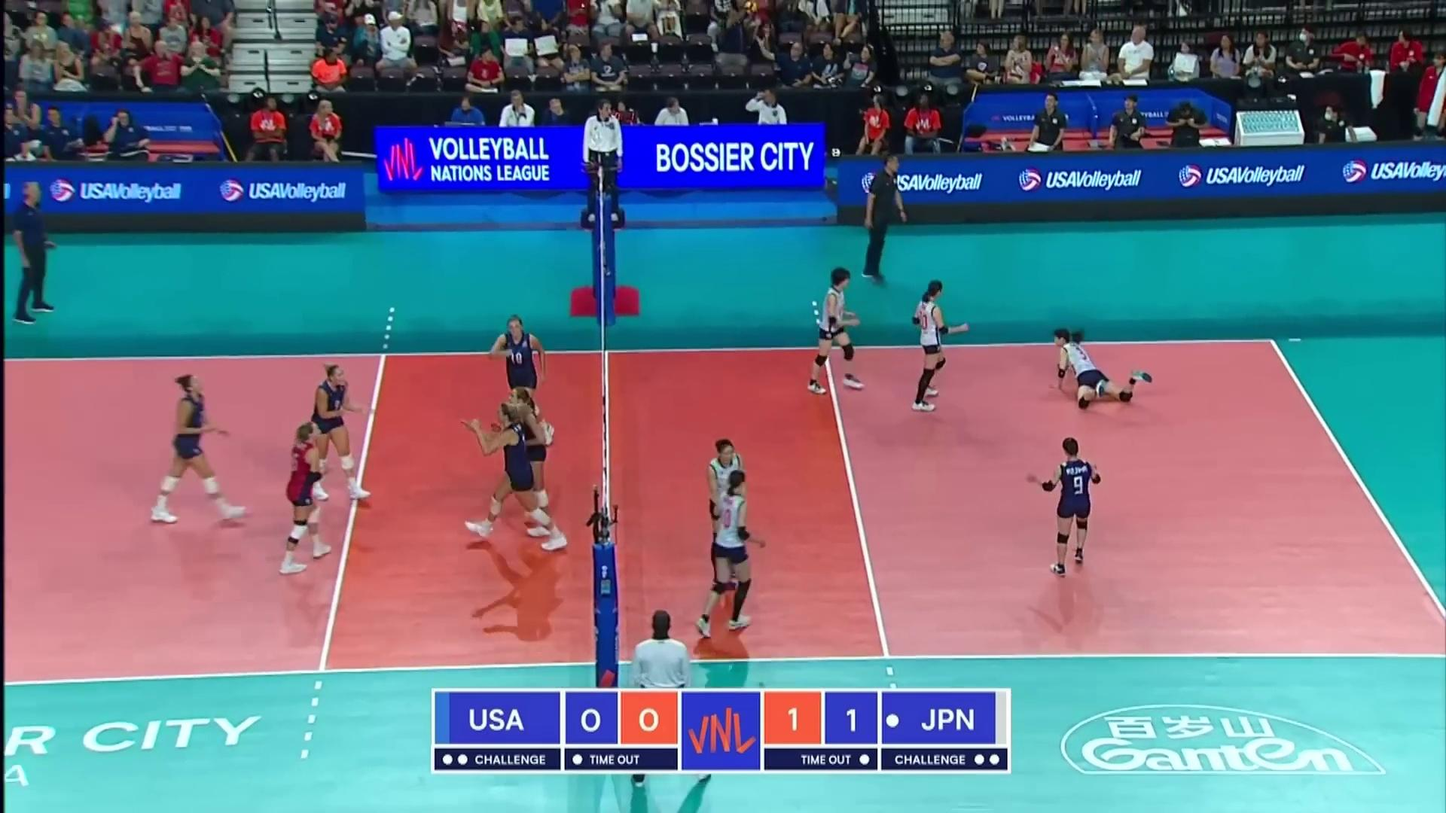player: (466, 406, 571, 553), (154, 372, 247, 523), (693, 470, 767, 638), (1036, 435, 1101, 573), (1050, 327, 1150, 411), (490, 315, 554, 446), (311, 364, 372, 501), (282, 425, 335, 577), (906, 282, 967, 411), (499, 388, 552, 536), (709, 438, 753, 600), (812, 267, 866, 397)
refree: (633, 608, 712, 781), (582, 98, 627, 225)
